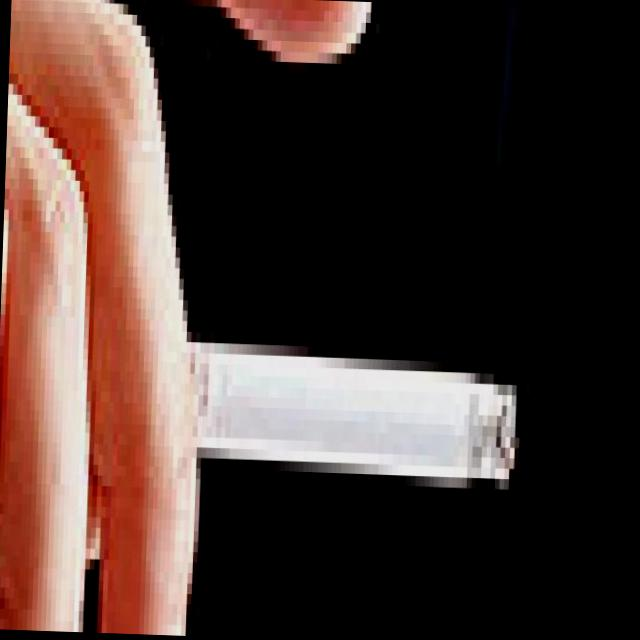smoke: (182, 320, 514, 490)
